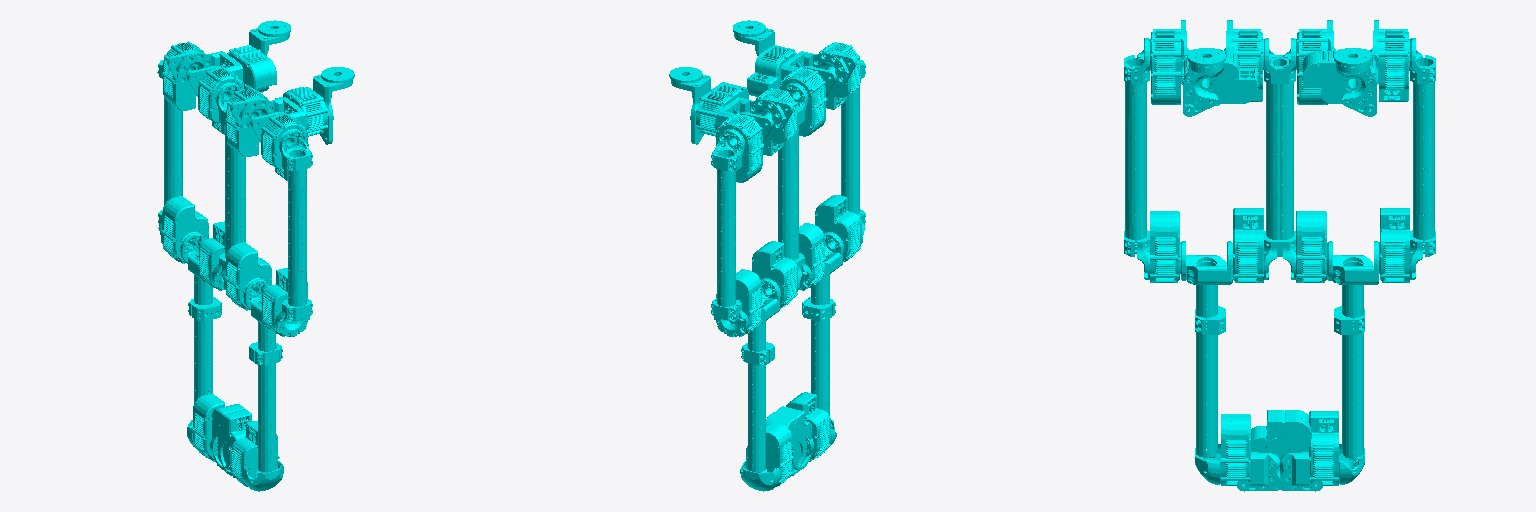
--- Render facts (derived) ---
3 views of the same robot in one strip: view 1: azimuth 30°, elevation 25°; view 2: azimuth 150°, elevation 25°; view 3: azimuth 270°, elevation 25° (orthographic).
Model Florence with 26 links and 25 joints (12 revolute, 13 fixed), rooted at World, posed all joints at 0.
Visible links, largest first — view 1: Link3R, Link3L, Link4R, Link4L, Link2R, Link2L, Link1R, Link1L, Link5L, Link5R; view 2: Link3L, Link3R, Link4L, Link4R, Link2L, Link2R, Link1L, Link1R, Link5L, Link5R; view 3: Link3L, Link3R, Link4L, Link4R, Link2R, Link2L, Link1R, Link1L, Link5R, Link5L.
Link boxes in pixels (x1,y1,x2,y2): Link3R: (222,106,312,336); Link3L: (157,60,241,290); Link4R: (232,277,283,491); Link4L: (179,231,224,461); Link2R: (225,88,308,180); Link2L: (162,41,243,134); Link1R: (275,67,354,144); Link1L: (227,20,290,92); Link5L: (209,409,251,477); Link5R: (212,404,244,470); Link3L: (711,106,801,336); Link3R: (782,60,865,290); Link4L: (740,277,793,491); Link4R: (786,231,844,461); Link2L: (716,88,796,182); Link2R: (780,42,860,136); Link1L: (669,67,748,144); Link1R: (733,20,796,96); Link5L: (776,406,812,472); Link5R: (766,412,814,477); Link3L: (1271,38,1435,282); Link3R: (1124,38,1288,282); Link4L: (1309,241,1379,485); Link4R: (1180,241,1250,485); Link2R: (1151,20,1262,104); Link2L: (1297,20,1408,104); Link1R: (1182,48,1256,116); Link1L: (1303,48,1377,116); Link5R: (1251,410,1322,491); Link5L: (1237,410,1308,491).
Size in the robot's own frame: 0.2155 by 0.4527 by 0.7491 metres.
Meshes: 10 distinct files referenced, 10 mesh visuals loaded (8 binary STL); not drawn: 3 (reference not matched to a file when rendering).

URDF robot description (Florence):
<robot name="Florence">
    <link name="World"></link>

    ## BASE LINK
    <link name="FloBase">
        <inertial>
            <origin xyz="0.0066 -0.0002 0.0545" rpy="0 0 0"/>
            <mass value="18.3700"/>
            <inertia ixx="0.1768"  ixy="-0.0010"  ixz="0.0231" iyy="0.1913" iyz="0" izz="0.2864" />
        </inertial>
        <visual>
            <origin xyz="0 0 0" rpy="0 0 0" />
            <geometry>
                <mesh filename="Base_rem.stl" />
            </geometry>
            <material name="Cyan">
                <color rgba="0 1.0 1.0 1.0"/>
            </material>
        </visual>

        #collision body base
        <collision>
            <origin xyz="0 0 0" rpy="0 0 0" />
            <geometry>
                <cylinder radius="0.301" length="0.038"/>
            </geometry>
        </collision>
        #collision body motor left
        <collision>
            <origin xyz="0.1680 0.0970 -0.0430" rpy="0 0 0.5236" />
            <geometry>
                <box size="0.1110 0.0740 0.0440"/>
            </geometry>
        </collision>
        #collision body motor right
        <collision>
            <origin xyz="0.1680 -0.0970 -0.0430" rpy="0 0 -0.5236" />
            <geometry>
                <box size="0.1110 0.0740 0.0440"/>
            </geometry>
        </collision>
    </link>

    <joint name="FloBaseJoint" type="fixed"><origin xyz="0 0 0.0" rpy="0 0 0"/><parent link="World"/><child link="FloBase"/></joint>


    ## LINK 1:
    # left
    <link name="Link1L">
        <inertial>
            <origin xyz="-0.0490 0.0102 0.0914" rpy="0 0 0"/>
            <mass value="0.7600"/>
            <inertia ixx="0.9643E-3"  ixy="9.6590e-05"  ixz="2.2060e-04" iyy="8.5310e-04" iyz="-1.3100e-05" izz="8.2910e-04" />
        </inertial>
        <visual>
            <origin xyz="0 0 0" rpy="0 0 0" />
            <geometry>
                <mesh filename="Link1L_rem.stl" />
            </geometry>
            <material name="Cyan">
                <color rgba="0 1.0 1.0 1.0"/>
            </material>
        </visual>

        #collision body holder
        <!--collision>
            <origin xyz="-0.0380 -0.0350 0.0451" rpy="0 0 0" />
            <geometry>
                <box size="1.55e-05	 4e-05  0.000105"/>
            </geometry>
        </collision-->
        #collision body motor
        <collision>
            <origin xyz="-0.0595    0.0185    0.1001" rpy="0 0 0" />
            <geometry>
                <box size="0.0440 0.1110 0.0740"/>
            </geometry>
        </collision>
    </link>

    <joint name="LefHipYaw" type="revolute">
        <origin xyz="0.1841 0.1063 -0.0210" rpy="3.1416 0 0"/>
        <parent link="FloBase"/>
        <child link="Link1L"/>
        <axis xyz="0 0 1" />
        <limit lower="-1.5708" upper="1.5708" effort="150" velocity="1.5"/>
    </joint>

    # right
    <link name="Link1R">
        <inertial>
            <origin xyz="-0.0490 0.0102 0.0914" rpy="0 0 0"/>
            <mass value="0.7600"/>
            <inertia ixx="9.6430e-04"  ixy="-5.4240e-05"  ixz="2.2610e-05" iyy="8.5310e-04" iyz="8.5980e-05" izz="8.2910e-04" />
        </inertial>
        <visual>
            <origin xyz="0 0 0" rpy="0 0 0" />
            <geometry>
                <mesh filename="Link1R_rem.stl" />
            </geometry>
            <material name="Cyan">
                <color rgba="0 1.0 1.0 1.0"/>
            </material>
        </visual>

        #collision body holder
        <!--collision>
           <origin xyz="-0.0380   -0.0250    0.0451" rpy="0 0 0" />
            <geometry>
                <box size="0.0155 0.0400 0.1050"/>
            </geometry>
        </collision-->
        #collision body motor
        <collision>
            <origin xyz="-0.0595   -0.0185    0.1001" rpy="0 0 0" />
            <geometry>
                <box size="0.0440 0.1110 0.0740"/>
            </geometry>
        </collision>
    </link>

    <joint name="RigHipYaw" type="revolute">
        <origin xyz="0.1841 -0.1063 -0.0210" rpy="3.1416 0 0"/>
        <parent link="FloBase"/>
        <child link="Link1R"/>
        <axis xyz="0 0 1" />
        <limit lower="-1.5708" upper="1.5708" effort="150" velocity="1.5"/>
    </joint>


    ## LINK 2:
    # left
    <link name="Link2L">
        <inertial>
            <origin xyz="0.0110 -0.0002 0.0951" rpy="0 0 0"/>
            <mass value="1.4279"/>
            <inertia ixx="0.0051"  ixy="0"  ixz="-0.0001" iyy="0.0017" iyz="0.0001" izz="0.0052" />
        </inertial>
        <visual>
            <origin xyz="0 0 0" rpy="0 0 0" />
            <geometry>
                <mesh filename="Link2_rem.stl" />
            </geometry>
            <material name="Cyan">
                <color rgba="0 1.0 1.0 1.0"/>
            </material>
        </visual>

        #collision body motor 1
        <collision>
           <origin xyz="0.0185 -0.0595 0.1001" rpy="0 0 0" />
            <geometry>
                <box size="0.1110 0.0440 0.0740"/>
            </geometry>
        </collision>
        #collision body motor 2
        <collision>
            <origin xyz="0.0185 0.0590 0.1001" rpy="0 0 0" />
            <geometry>
                <box size="0.1110 0.0440 0.0740"/>
            </geometry>
        </collision>
        #collision body holder
        <collision>
            <origin xyz="-0.0050 0 0.0975" rpy="0 0 0" />
            <geometry>
                <box size="0.0600 0.0750 0.1050"/>
            </geometry>
        </collision>
    </link>

    <joint name="LefHipRoll" type="revolute">
        <origin xyz="-0.0375 0 0.1001" rpy="0 -1.5708 0"/>
        <parent link="Link1L"/>
        <child link="Link2L"/>
        <axis xyz="0 0 1" />
        <limit lower="-1.5708" upper="1.5708" effort="150" velocity="1.5"/>
    </joint>

    # right
    <link name="Link2R">
        <inertial>
            <origin xyz="0.0110 -0.0002 0.0951" rpy="0 0 0"/>
            <mass value="1.4279"/>
            <inertia ixx="0.0051"  ixy="0"  ixz="-0.0001" iyy="0.0017" iyz="0.0001" izz="0.0052" />
        </inertial>
        <visual>
            <origin xyz="0 0 0" rpy="0 0 0" />
            <geometry>
                <mesh filename="Link2_rem.stl" />
            </geometry>
            <material name="Cyan">
                <color rgba="0 1.0 1.0 1.0"/>
            </material>
        </visual>

        #collision body motor 1
        <collision>
           <origin xyz="0.0185 -0.0595 0.1001" rpy="0 0 0" />
            <geometry>
                <box size="0.1110 0.0440 0.0740"/>
            </geometry>
        </collision>
        #collision body motor 2
        <collision>
            <origin xyz="0.0185 0.0590 0.1001" rpy="0 0 0" />
            <geometry>
                <box size="0.1110 0.0440 0.0740"/>
            </geometry>
        </collision>
        #collision body holder
        <collision>
            <origin xyz="-0.0050 0 0.0975" rpy="0 0 0" />
            <geometry>
                <box size="0.0600 0.0750 0.1050"/>
            </geometry>
        </collision>
    </link>

    <joint name="RigHipRoll" type="revolute">
        <origin xyz="-0.0375 0 0.1001" rpy="0 -1.5708 0"/>
        <parent link="Link1R"/>
        <child link="Link2R"/>
        <axis xyz="0 0 1" />
        <limit lower="-1.5708" upper="1.5708" effort="150" velocity="1.5"/>
    </joint>

    ## LINK 3:
    # left
    <link name="Link3L">
        <inertial>
            <origin xyz="0.2578 0 0" rpy="0 0 0"/>
            <mass value="1.7659"/>
            <inertia ixx="0.0109"  ixy="0"  ixz="0" iyy="0.0307" iyz="0" izz="0.0209" />
        </inertial>
        <visual>
            <origin xyz="0 0 0" rpy="0 0 0" />
            <geometry>
                <mesh filename="Link3_rtbox_rem.stl" />
            </geometry>
            <material name="Cyan">
                <color rgba="0 1.0 1.0 1.0"/>
            </material>
        </visual>

        #collision body motor 1
        <collision>
           <origin xyz="0.3070 0 -0.0605" rpy="0 0 0" />
            <geometry>
                <box size="0.1110 0.0740 0.0440"/>
            </geometry>
        </collision>
        #collision body motor 2
        <collision>
           <origin xyz="0.3070 0 0.0605" rpy="0 0 0" />
            <geometry>
                <box size="0.1110 0.0740 0.0440"/>
            </geometry>
        </collision>
        #collision body rod 1
        <collision>
           <origin xyz="0.1625 0 -0.1026" rpy="0 0 0" />
            <geometry>
                <box size="0.3000 0.0480 0.0350"/>
            </geometry>
        </collision>
        #collision body rod 2
        <collision>
           <origin xyz="0.1625 0 0.1026" rpy="0 0 0" />
            <geometry>
                <box size="0.3000 0.0480 0.0350"/>
            </geometry>
        </collision>
    </link>

    <joint name="LefHipPitch" type="revolute">
        <origin xyz="0 0 0.1001" rpy="-1.5708 0 0"/>
        <parent link="Link2L"/>
        <child link="Link3L"/>
        <axis xyz="0 0 1" />
        <limit lower="-1.5708" upper="1.5708" effort="150" velocity="1.5"/>
    </joint>

    # right
    <link name="Link3R">
        <inertial>
            <origin xyz="0.2578 0 0" rpy="0 0 0"/>
            <mass value="1.7659"/>
            <inertia ixx="0.0109"  ixy="0"  ixz="0" iyy="0.0307" iyz="0" izz="0.0209" />
        </inertial>
        <visual>
            <origin xyz="0 0 0" rpy="0 0 0" />
            <geometry>
                <mesh filename="Link3_rtbox_rem.stl" />
            </geometry>
            <material name="Cyan">
                <color rgba="0 1.0 1.0 1.0"/>
            </material>
        </visual>

        #collision body motor 1
        <collision>
           <origin xyz="0.3070 0 -0.0605" rpy="0 0 0" />
            <geometry>
                <box size="0.1110 0.0740 0.0440"/>
            </geometry>
        </collision>
        #collision body motor 2
        <collision>
           <origin xyz="0.3070 0 0.0605" rpy="0 0 0" />
            <geometry>
                <box size="0.1110 0.0740 0.0440"/>
            </geometry>
        </collision>
        #collision body rod 1
        <collision>
           <origin xyz="0.1625 0 -0.1026" rpy="0 0 0" />
            <geometry>
                <box size="0.3000 0.0480 0.0350"/>
            </geometry>
        </collision>
        #collision body rod 2
        <collision>
           <origin xyz="0.1625 0 0.1026" rpy="0 0 0" />
            <geometry>
                <box size="0.3000 0.0480 0.0350"/>
            </geometry>
        </collision>
    </link>

    <joint name="RigHipPitch" type="revolute">
        <origin xyz="0 0 0.1001" rpy="-1.5708 0 0"/>
        <parent link="Link2R"/>
        <child link="Link3R"/>
        <axis xyz="0 0 1" />
        <limit lower="-1.5708" upper="1.5708" effort="150" velocity="1.5"/>
    </joint>


    ## LINK 4:
    # left
    <link name="Link4L">
        <inertial>
            <origin xyz="0.1945 0.0003 -0.0137" rpy="0 0 0"/>
            <mass value="1.0127"/>
            <inertia ixx="0.0010"  ixy="0.0001"  ixz="-0.0020" iyy="0.0222" iyz="0" izz="0.0218" />
        </inertial>
        <visual>
            <origin xyz="0 0 0" rpy="0 0 0" />
            <geometry>
                <mesh filename="Link4L_rtbox_rem.stl" />
            </geometry>
            <material name="Cyan">
                <color rgba="0 1.0 1.0 1.0"/>
            </material>
        </visual>

        #collision body motor
        <collision>
           <origin xyz="0.3065 0 -0.0420" rpy="0 0 0" />
            <geometry>
                <box size="0.1110 0.0740 0.0440"/>
            </geometry>
        </collision>

        #collision body rod
        <collision>
           <origin xyz="0.1968 0 -0.0010" rpy="0 0 0" />
            <geometry>
                <box size="0.3225 0.0480 0.0370"/>
            </geometry>
        </collision>

        #collision body holder
        <collision>
           <origin xyz="0.0055 0 0" rpy="0 0 0" />
            <geometry>
                <box size="0.0600 0.0480 0.0749"/>
            </geometry>
        </collision>

    </link>

    <joint name="LefKneePitch" type="revolute">
        <origin xyz="0.3255 0 0" rpy="0 0 0"/>
        <parent link="Link3L"/>
        <child link="Link4L"/>
        <axis xyz="0 0 1" />
        <limit lower="-1.5708" upper="1.5708" effort="150" velocity="1.5"/>
    </joint>

    # right
    <link name="Link4R">
        <inertial>
            <origin xyz="0.1945 0.0003 -0.0137" rpy="0 0 0"/>
            <mass value="1.0127"/>
            <inertia ixx="0.0010"  ixy="-0.0001"  ixz="0.0020" iyy="0.0222" iyz="0" izz="0.0218" />
        </inertial>
        <visual>
            <origin xyz="0 0 0" rpy="0 0 0" />
            <geometry>
                <mesh filename="Link4R_rtbox_rem.stl" />
            </geometry>
            <material name="Cyan">
                <color rgba="0 1.0 1.0 1.0"/>
            </material>
        </visual>

        #collision body motor
        <collision>
           <origin xyz="0.3065 0 0.0420" rpy="0 0 0" />
            <geometry>
                <box size="0.1110 0.0740 0.0440"/>
            </geometry>
        </collision>

        #collision body rod
        <collision>
           <origin xyz="0.1968 0 -0.0010" rpy="0 0 0" />
            <geometry>
                <box size="0.3225 0.0480 0.0370"/>
            </geometry>
        </collision>

        #collision body holder
        <collision>
           <origin xyz="0.0055 0 0" rpy="0 0 0" />
            <geometry>
                <box size="0.0600 0.0480 0.0749"/>
            </geometry>
        </collision>

    </link>

    <joint name="RigKneePitch" type="revolute">
        <origin xyz="0.3255 0 0" rpy="0 0 0"/>
        <parent link="Link3R"/>
        <child link="Link4R"/>
        <axis xyz="0 0 1" />
        <limit lower="-1.5708" upper="1.5708" effort="150" velocity="1.5"/>
    </joint>

    ## LINK 5:
    # left
    <link name="Link5L">
        <inertial>
            <origin xyz="-0.0091 0.0112 0.0754" rpy="0 0 0"/>
            <mass value="0.5637"/>
            <inertia ixx="0.4810E-3"  ixy="-0.0306E-3"  ixz="0.0132E-3" iyy="0.7391E-3" iyz="-0.0105E-3" izz="0.4231E-3" />
        </inertial>
        <visual>
            <origin xyz="0 0 0" rpy="0 0 0" />
            <geometry>
                <mesh filename="Link5L_rem.stl" />
            </geometry>
            <material name="Cyan">
                <color rgba="0 1.0 1.0 1.0"/>
            </material>
        </visual>

        #collision body motor
        <collision>
           <origin xyz="-0.0185 0.0005 0.0990" rpy="0 0 0" />
            <geometry>
                <box size="0.1110 0.0440 0.0740"/>
            </geometry>
        </collision>

        #collision body holder
        <collision>
           <origin xyz="0.0050 0.0297 0.0965" rpy="0 0 0" />
            <geometry>
                <box size="0.0600 0.0155 0.1050"/>
            </geometry>
        </collision>

    </link>

    <joint name="LefAnklePitch" type="revolute">
        <origin xyz="0.3250 0 0.0200" rpy="0 0 0"/>
        <parent link="Link4L"/>
        <child link="Link5L"/>
        <axis xyz="0 0 1" />
        <limit lower="-1.5708" upper="1.5708" effort="150" velocity="1.5"/>
    </joint>

    # right
    <link name="Link5R">
        <inertial>
            <origin xyz="-0.0091 -0.0112 0.0777" rpy="0 0 0"/>
            <mass value="0.5637"/>
            <inertia ixx="0.5050E-3"  ixy="0.0306E-3"  ixz="0.0676E-3" iyy="0.7631E-3" iyz="0.0061E-3" izz="0.4231E-3" />
        </inertial>
        <visual>
            <origin xyz="0 0 0" rpy="0 0 0" />
            <geometry>
                <mesh filename="Link5R_rem.stl" />
            </geometry>
            <material name="Cyan">
                <color rgba="0 1.0 1.0 1.0"/>
            </material>
        </visual>

        #collision body motor
        <collision>
           <origin xyz="-0.0185 -0.0010 0.0990" rpy="0 0 0" />
            <geometry>
                <box size="0.1110 0.0440 0.0740"/>
            </geometry>
        </collision>

        #collision body holder
        <collision>
           <origin xyz="0.0050 -0.0297 0.0965" rpy="0 0 0" />
            <geometry>
                <box size="0.0600 0.0155 0.1050"/>
            </geometry>
        </collision>

    </link>

    <joint name="RigAnklePitch" type="revolute">
        <origin xyz="0.3250 0 -0.0200" rpy="3.1416 0 0"/>
        <parent link="Link4R"/>
        <child link="Link5R"/>
        <axis xyz="0 0 1" />
        <limit lower="-1.5708" upper="1.5708" effort="150" velocity="1.5"/>
    </joint>


    ## LINK 6:
    # left
    <link name="Link6L">
        <inertial>
            <origin xyz="0.0712 0.0002 0.0266" rpy="0 0 0"/>
            <mass value="1.2731"/>
            <inertia ixx="0.0083"  ixy="0"  ixz="0.0003" iyy="0.0061" iyz="0" izz="0.0035" />
        </inertial>
        <visual>
            <origin xyz="0 0 0" rpy="0 0 0" />
            <geometry>
                <mesh filename="Link6_rem.stl" />
            </geometry>
            <material name="Cyan">
                <color rgba="0 1.0 1.0 1.0"/>
            </material>
        </visual>

        #collision body foot
        <collision>
           <origin xyz="0.1008 0 0.0330" rpy="0 0 0" />
            <geometry>
                <box size="0.0367 0.1490 0.1670"/>
            </geometry>
        </collision>
    </link>

    <joint name="LefAnkleRoll" type="revolute">
        <origin xyz="0 0.0230 0.1001" rpy="1.5708 0 0"/>
        <parent link="Link5L"/>
        <child link="Link6L"/>
        <axis xyz="0 0 1" />
        <limit lower="-1.5708" upper="1.5708" effort="150" velocity="1.5"/>
    </joint>

    # right
    <link name="Link6R">
        <inertial>
            <origin xyz="0.0712 -0.0002 0.0266" rpy="0 0 0"/>
            <mass value="1.2731"/>
            <inertia ixx="0.0083"  ixy="0"  ixz="0.0003" iyy="0.0061" iyz="0" izz="0.0035" />
        </inertial>
        <visual>
            <origin xyz="0 0 0" rpy="0 0 0" />
            <geometry>
                <mesh filename="Link6_rem.stl" />
            </geometry>
            <material name="Cyan">
                <color rgba="0 1.0 1.0 1.0"/>
            </material>
        </visual>

        #collision body foot
        <collision>
           <origin xyz="0.1008 0 0.0330" rpy="0 0 0" />
            <geometry>
                <box size="0.0367 0.1490 0.1670"/>
            </geometry>
        </collision>
    </link>

    <joint name="RigAnkleRoll" type="revolute">
        <origin xyz="0 -0.0230 0.1001" rpy="-1.5708 0 0"/>
        <parent link="Link5R"/>
        <child link="Link6R"/>
        <axis xyz="0 0 1" />
        <limit lower="-1.5708" upper="1.5708" effort="150" velocity="1.5"/>
    </joint>

    ## END EFFECTOR:
    # left
    <link name="EE_L">
        <inertial>
            <origin xyz="0 0 0" rpy="0 0 0"/>
            <mass value="0"/>
            <inertia ixx="0"  ixy="0"  ixz="0" iyy="0" iyz="0" izz="0" />
        </inertial>
    </link>

    <joint name="EndEffectorL" type="fixed">
        <origin xyz="0.1192 0 0.0331" rpy="0 1.5708 3.1416"/>
        <parent link="Link6L"/>
        <child link="EE_L"/>
        <axis xyz="0 0 1" />
    </joint>

    # right
    <link name="EE_R">
        <inertial>
            <origin xyz="0 0 0" rpy="0 0 0"/>
            <mass value="0"/>
            <inertia ixx="0"  ixy="0"  ixz="0" iyy="0" iyz="0" izz="0" />
        </inertial>
    </link>

    <joint name="EndEffectorR" type="fixed">
        <origin xyz="0.1192 0 0.0331" rpy="0 1.5708 3.1416"/>
        <parent link="Link6R"/>
        <child link="EE_R"/>
        <axis xyz="0 0 1" />
    </joint>

    ## LOAD CELLS LEFT:
    <link name="LC_L1">
        <inertial>
            <origin xyz="0 0 0" rpy="0 0 0"/>
            <mass value="0"/>
            <inertia ixx="0"  ixy="0"  ixz="0" iyy="0" iyz="0" izz="0" />
        </inertial>
    </link>

    <link name="LC_L2">
        <inertial>
            <origin xyz="0 0 0" rpy="0 0 0"/>
            <mass value="0"/>
            <inertia ixx="0"  ixy="0"  ixz="0" iyy="0" iyz="0" izz="0" />
        </inertial>
    </link>

    <link name="LC_L3">
        <inertial>
            <origin xyz="0 0 0" rpy="0 0 0"/>
            <mass value="0"/>
            <inertia ixx="0"  ixy="0"  ixz="0" iyy="0" iyz="0" izz="0" />
        </inertial>
    </link>

    <link name="LC_L4">
        <inertial>
            <origin xyz="0 0 0" rpy="0 0 0"/>
            <mass value="0"/>
            <inertia ixx="0"  ixy="0"  ixz="0" iyy="0" iyz="0" izz="0" />
        </inertial>
    </link>

    <joint name="LC_L1joint" type="fixed">
        <origin xyz="0.0520 0.0460 0" rpy="0 0 0"/>
        <parent link="EE_L"/>
        <child link="LC_L1"/>
        <axis xyz="0 0 1" />
    </joint>

    <joint name="LC_L2joint" type="fixed">
        <origin xyz="0.0520 -0.0460 0" rpy="0 0 0"/>
        <parent link="EE_L"/>
        <child link="LC_L2"/>
        <axis xyz="0 0 1" />
    </joint>

    <joint name="LC_L3joint" type="fixed">
        <origin xyz="-0.0520 -0.0460 0" rpy="0 0 0"/>
        <parent link="EE_L"/>
        <child link="LC_L3"/>
        <axis xyz="0 0 1" />
    </joint>

    <joint name="LC_L4joint" type="fixed">
        <origin xyz="-0.0520 0.0460 0" rpy="0 0 0"/>
        <parent link="EE_L"/>
        <child link="LC_L4"/>
        <axis xyz="0 0 1" />
    </joint>

    ## LOAD CELLS RIGHT:
    <link name="LC_R1">
        <inertial>
            <origin xyz="0 0 0" rpy="0 0 0"/>
            <mass value="0"/>
            <inertia ixx="0"  ixy="0"  ixz="0" iyy="0" iyz="0" izz="0" />
        </inertial>
    </link>

    <link name="LC_R2">
        <inertial>
            <origin xyz="0 0 0" rpy="0 0 0"/>
            <mass value="0"/>
            <inertia ixx="0"  ixy="0"  ixz="0" iyy="0" iyz="0" izz="0" />
        </inertial>
    </link>

    <link name="LC_R3">
        <inertial>
            <origin xyz="0 0 0" rpy="0 0 0"/>
            <mass value="0"/>
            <inertia ixx="0"  ixy="0"  ixz="0" iyy="0" iyz="0" izz="0" />
        </inertial>
    </link>

    <link name="LC_R4">
        <inertial>
            <origin xyz="0 0 0" rpy="0 0 0"/>
            <mass value="0"/>
            <inertia ixx="0"  ixy="0"  ixz="0" iyy="0" iyz="0" izz="0" />
        </inertial>
    </link>

    <joint name="LC_R1joint" type="fixed">
        <origin xyz="0.0520 0.0460 0" rpy="0 0 0"/>
        <parent link="EE_R"/>
        <child link="LC_R1"/>
        <axis xyz="0 0 1" />
    </joint>

    <joint name="LC_R2joint" type="fixed">
        <origin xyz="0.0520 -0.0460 0" rpy="0 0 0"/>
        <parent link="EE_R"/>
        <child link="LC_R2"/>
        <axis xyz="0 0 1" />
    </joint>

    <joint name="LC_R3joint" type="fixed">
        <origin xyz="-0.0520 -0.0460 0" rpy="0 0 0"/>
        <parent link="EE_R"/>
        <child link="LC_R3"/>
        <axis xyz="0 0 1" />
    </joint>

    <joint name="LC_R4joint" type="fixed">
        <origin xyz="-0.0520 0.0460 0" rpy="0 0 0"/>
        <parent link="EE_R"/>
        <child link="LC_R4"/>
        <axis xyz="0 0 1" />
    </joint>

    ## relevant IMUs
    #  left IMU
    <link name="IMU_L">
        <inertial>
            <origin xyz="0 0 0" rpy="0 0 0"/>
            <mass value="0"/>
            <inertia ixx="0"  ixy="0"  ixz="0" iyy="0" iyz="0" izz="0" />
        </inertial>
    </link>

    <joint name="IMU_L_joint" type="fixed">
        <origin xyz="0.1841 0.1063 -0.0210" rpy="3.1416 0 0.5236"/>
        <parent link="FloBase"/>
        <child link="IMU_L"/>
        <axis xyz="0 0 1" />
    </joint>

    #  right IMU
    <link name="IMU_R">
        <inertial>
            <origin xyz="0 0 0" rpy="0 0 0"/>
            <mass value="0"/>
            <inertia ixx="0"  ixy="0"  ixz="0" iyy="0" iyz="0" izz="0" />
        </inertial>
    </link>

    <joint name="IMU_R_joint" type="fixed">
        <origin xyz="0.1841 -0.1063 -0.0210" rpy="3.1416 0 -0.5236"/>
        <parent link="FloBase"/>
        <child link="IMU_R"/>
        <axis xyz="0 0 1" />
    </joint>
</robot>
